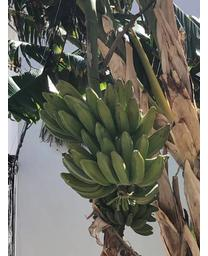banana: (37, 76, 173, 239)
